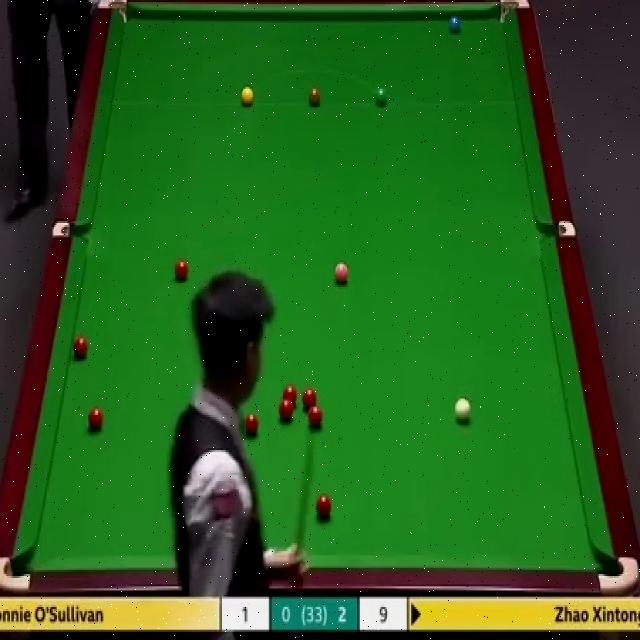blue-ball: (447, 13, 461, 34)
brown-ball: (308, 87, 321, 106)
green-ball: (374, 87, 387, 106)
pink-ball: (334, 264, 350, 287)
red-ball: (85, 404, 103, 432), (308, 402, 322, 429), (318, 495, 332, 521), (280, 400, 296, 422), (282, 384, 298, 406), (73, 335, 87, 360), (244, 411, 258, 436), (303, 388, 317, 410), (174, 262, 189, 281)
white-ball: (452, 396, 471, 424)
yellow-ball: (240, 87, 254, 106)
